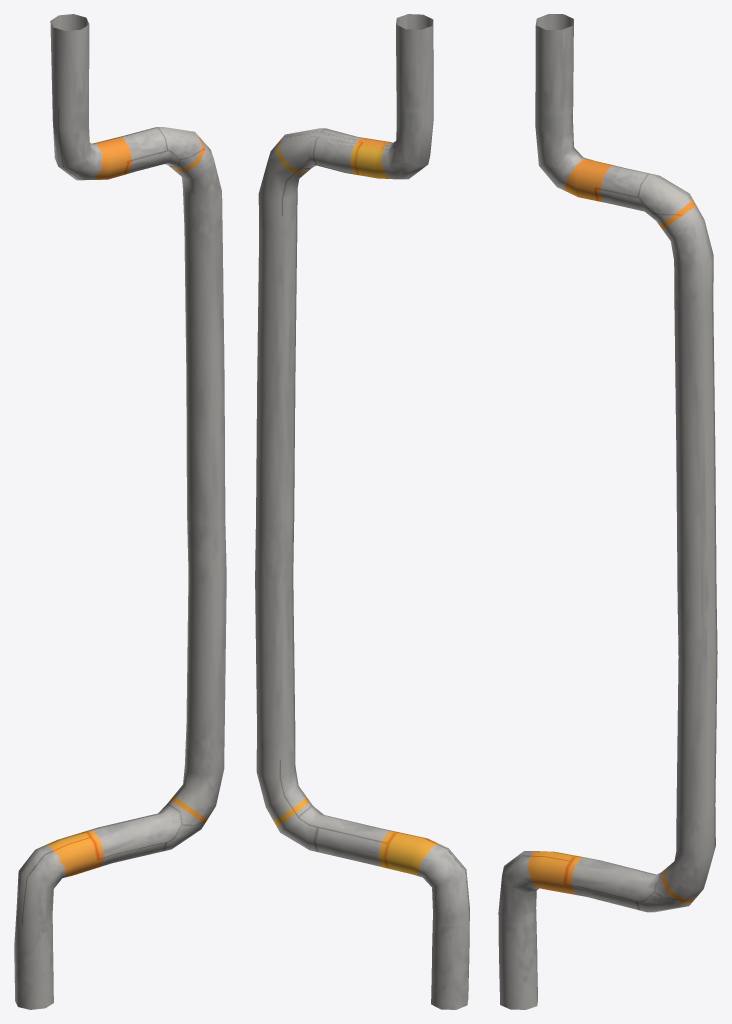
File: Pipes.fbx
3 renders of one model, left to right at view 1: azimuth 30°, elevation 25°; view 2: azimuth 150°, elevation 25°; view 3: azimuth 330°, elevation 25°, orthographic.
Parts seen in each view (by area): view 1: polySurface247; view 2: polySurface247; view 3: polySurface247.
Part boxes in pixels (x1,y1,x2,y2): polySurface247: (14,14,226,1009); polySurface247: (255,14,469,1009); polySurface247: (498,14,717,1009).
Size of the model in its own units: 19.12 by 84.69 by 3.67.
